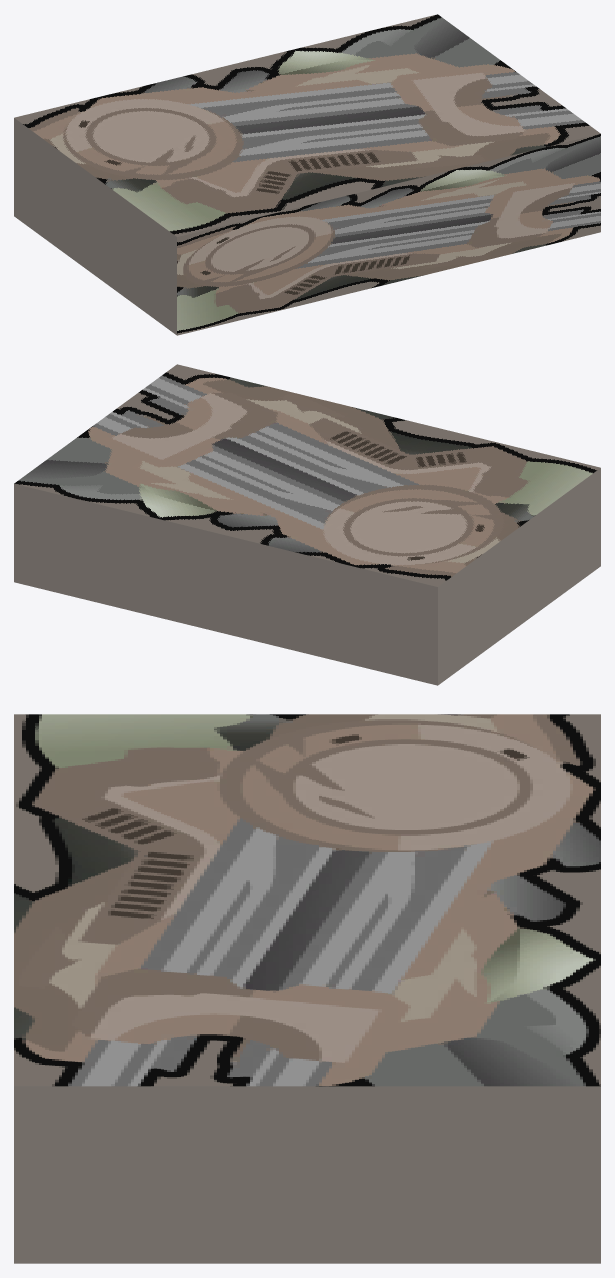
File: Building_AncientExostriderCannon.glb
3 views of the same model, one above another, from view 1: azimuth 30°, elevation 25°; view 2: azimuth 150°, elevation 25°; view 3: azimuth 270°, elevation 25° (orthographic). The views are drawn at different scales.
Parts seen in each view (by area): view 1: AncientExostriderCannon; view 2: AncientExostriderCannon; view 3: AncientExostriderCannon.
Part boxes in pixels (x1,y1,x2,y2): AncientExostriderCannon: (14,14,600,335); AncientExostriderCannon: (14,364,600,685); AncientExostriderCannon: (14,714,600,1263).
Bounding box in the file's own units: 2.7 × 0.6 × 1.8.
Materials: 1 (1 with a texture image).
